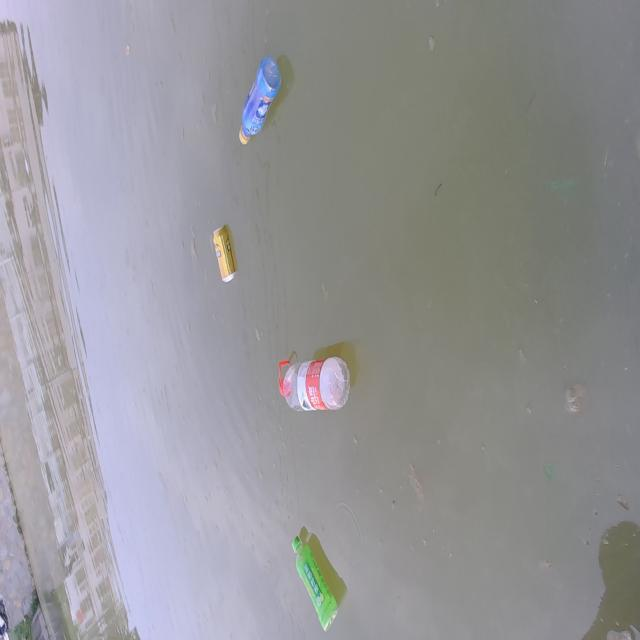bottle: (276, 498, 366, 630), (268, 336, 361, 425), (233, 45, 290, 147)
